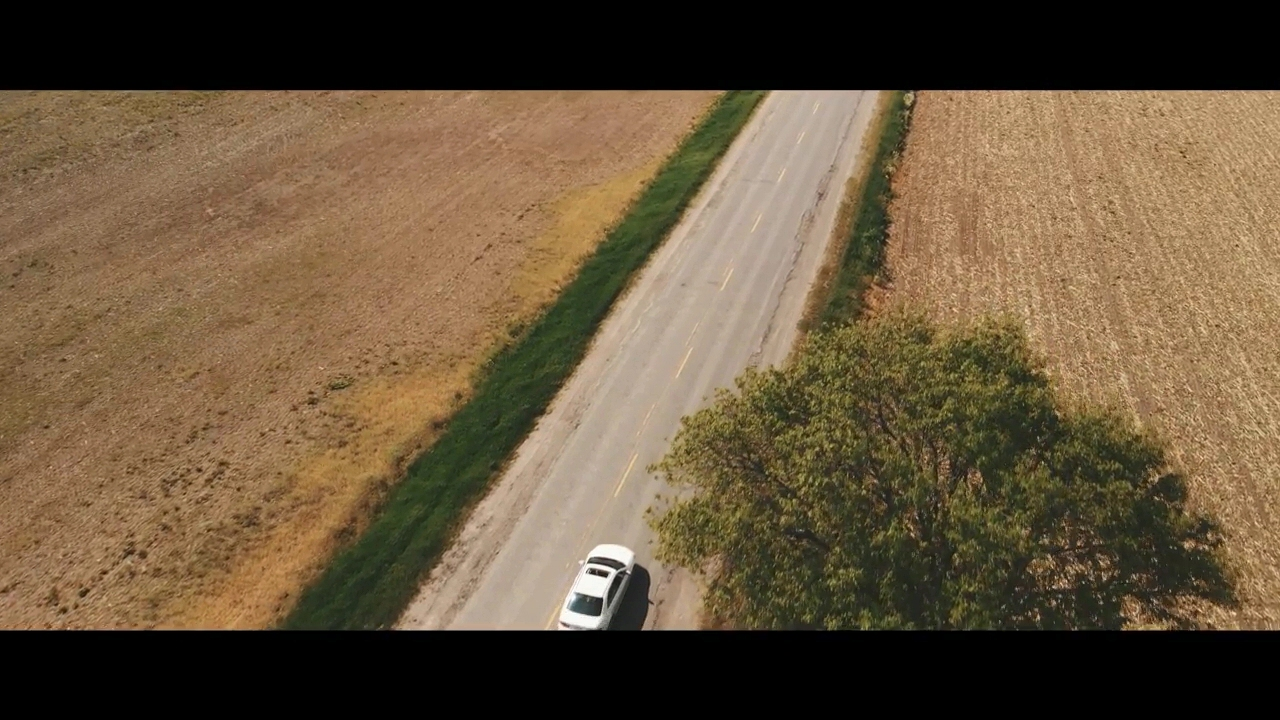araba: (552, 542, 647, 629)
